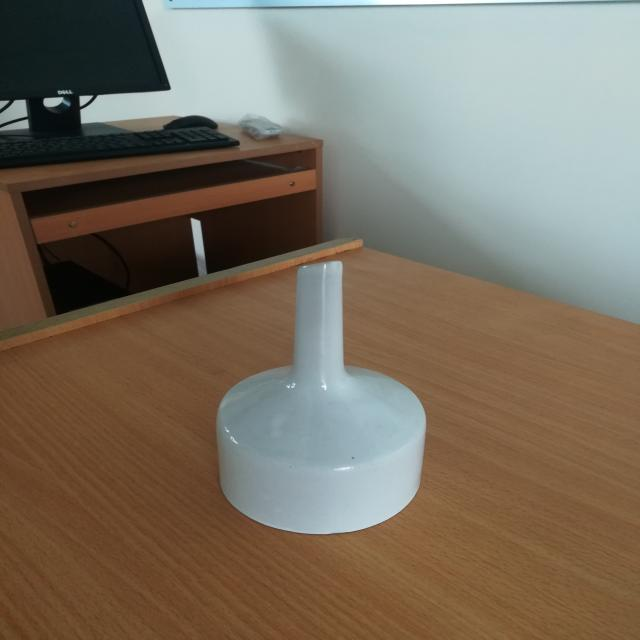Buchner_Funnel: (175, 234, 464, 567)
